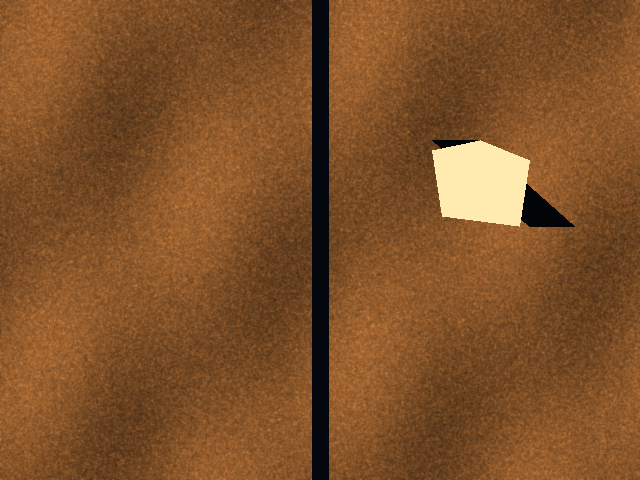Unknown Debris: (432, 140, 529, 226)
